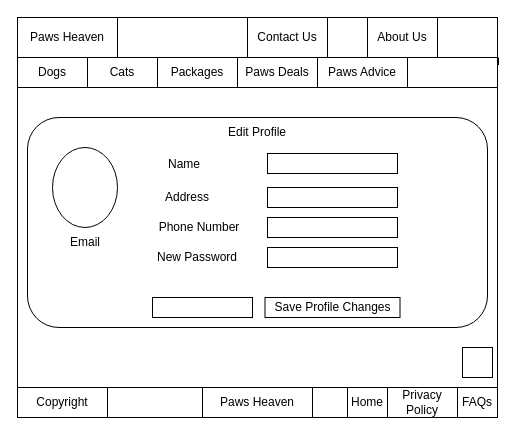
This 517x435 diagram has some shape labels left out. The shapes that lost their labels are listed below. From the top down, each one's centre as x and y in pixels, then its label:
At (347,37): "T&C".
At (467,37): "Profile".
At (85,187): "Image".
At (202,307): "Discard Changes".
At (477,362): "TOP".
